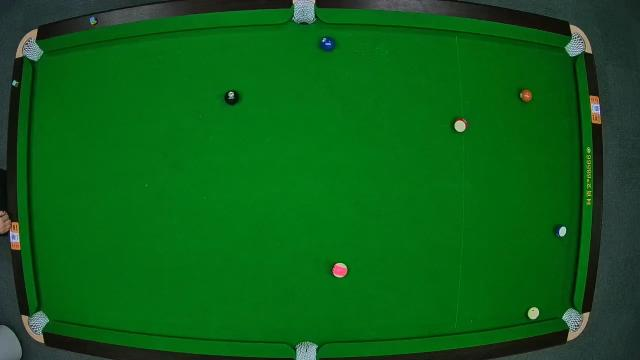bag1: (22, 38, 44, 60)
bag2: (291, 0, 317, 26)
bag3: (566, 29, 588, 57)
bag4: (29, 310, 49, 334)
bag5: (294, 340, 320, 360)
bag6: (563, 308, 585, 332)
ball0: (526, 304, 540, 320)
ball10: (552, 224, 568, 239)
ball11: (454, 116, 466, 132)
ball12: (332, 262, 348, 278)
ball2: (320, 36, 336, 52)
ball7: (520, 87, 532, 103)
ball8: (224, 90, 240, 105)
